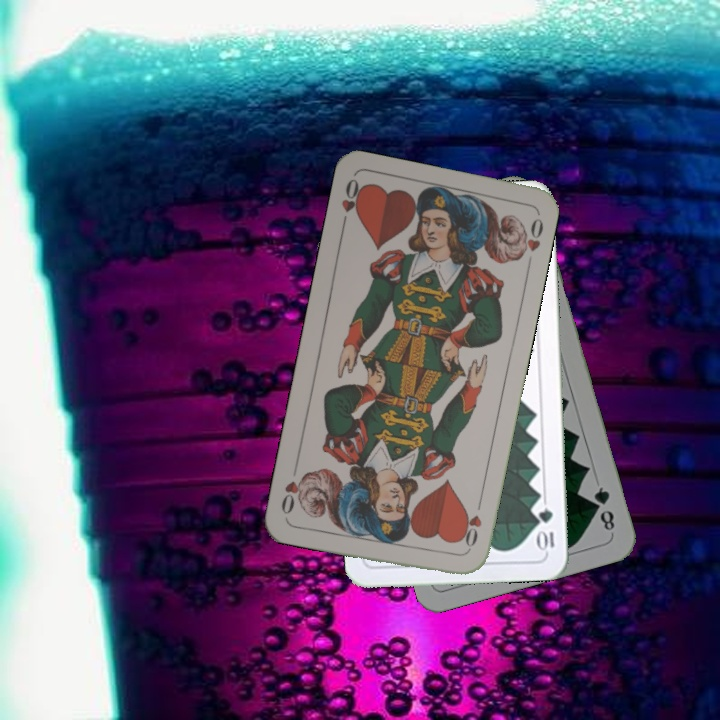G10: (535, 504, 557, 554)
G8: (590, 482, 618, 534)
HO: (456, 496, 485, 555), (337, 174, 366, 233)
